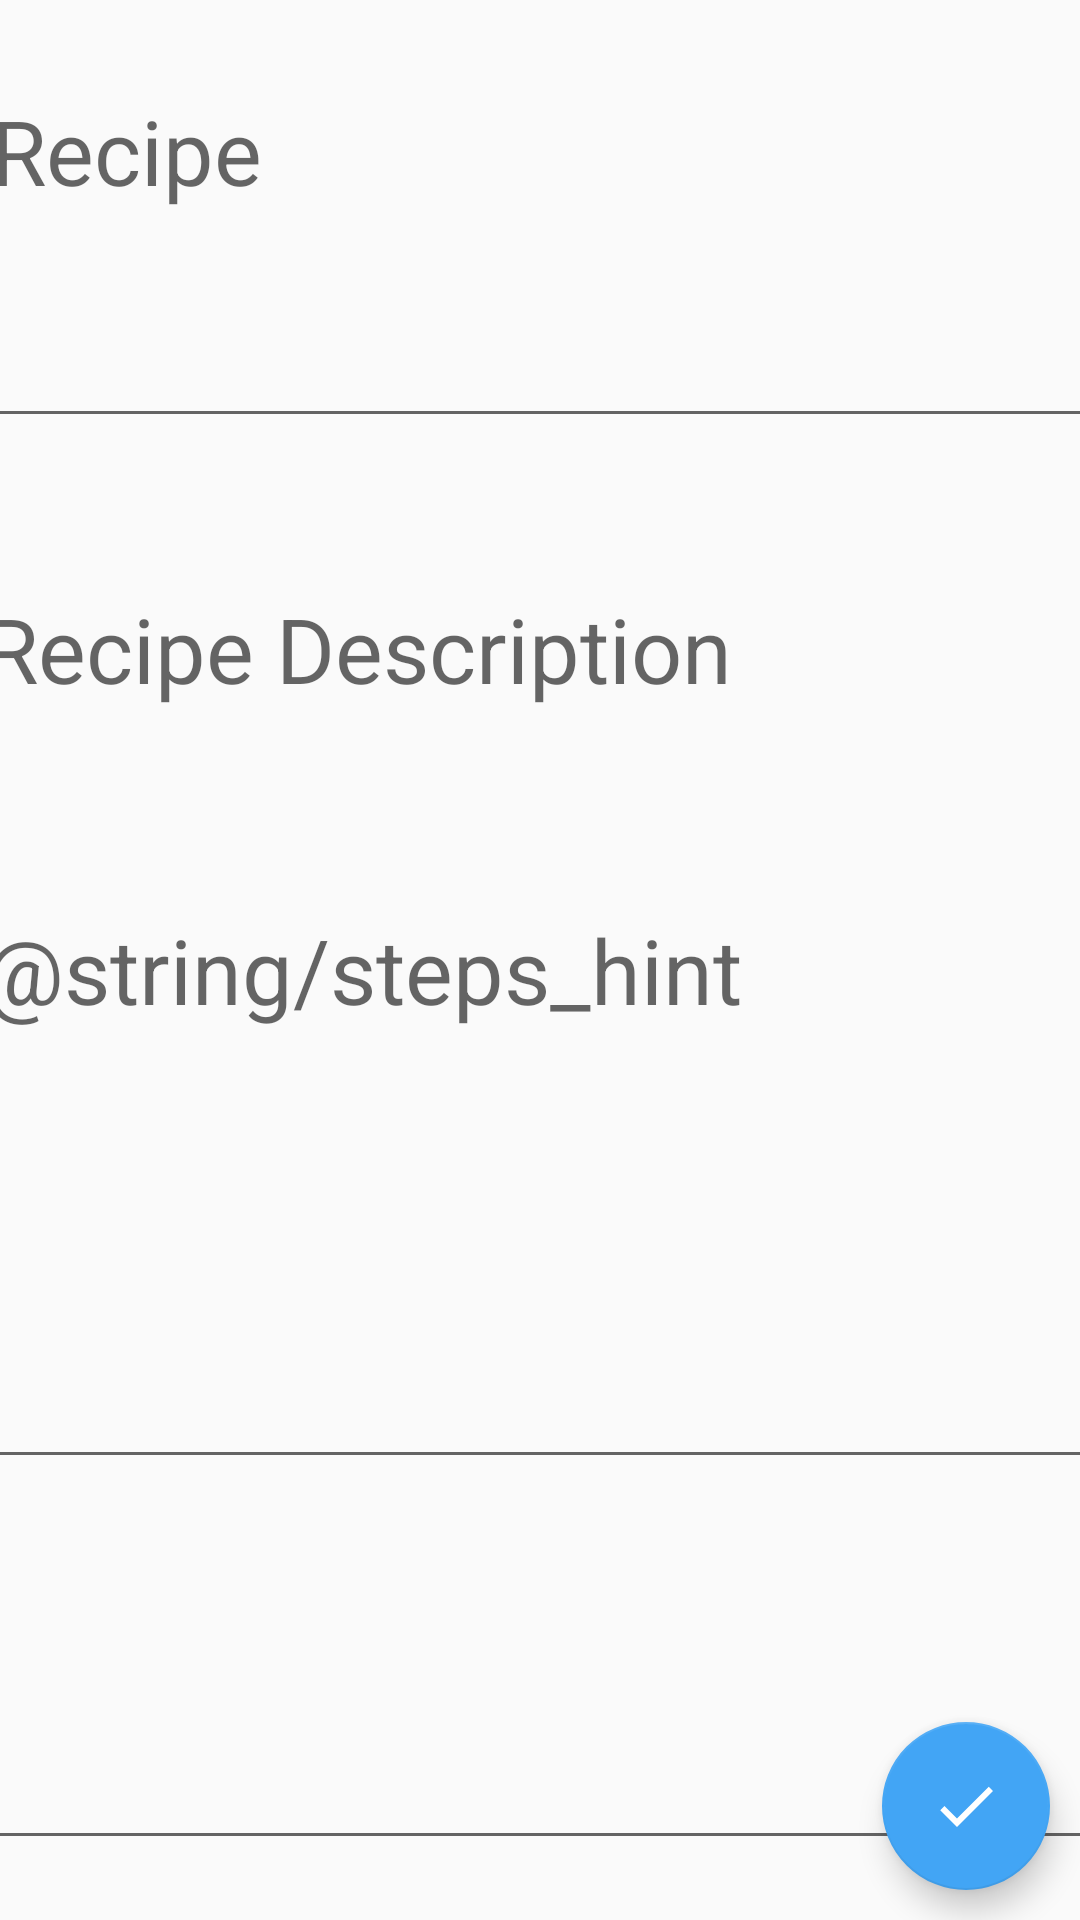

Point at icon controls on the screen. Image size 1080w x 1920h, points as (x=x, y=y).
Save Recipe: (x=966, y=1806)
